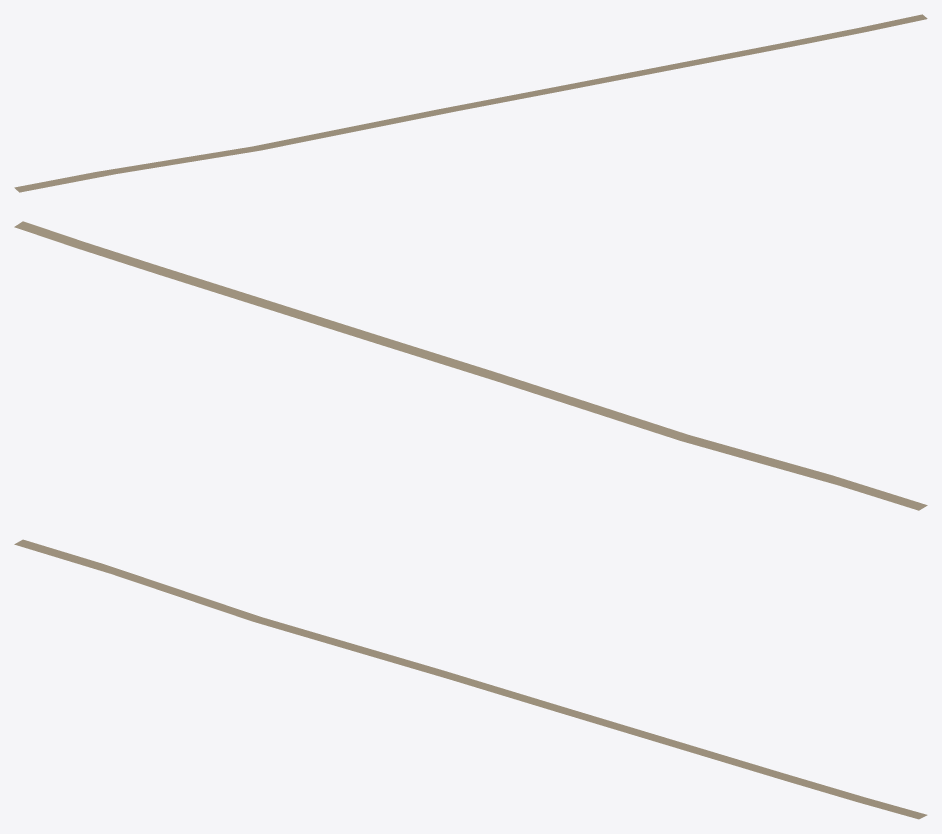
Rendered from farm_9_-2_track.glb.
3 views of the same model, one above another, from view 1: azimuth 30°, elevation 25°; view 2: azimuth 150°, elevation 25°; view 3: azimuth 330°, elevation 25° (orthographic). The views are drawn at different scales.
Visible parts, largest first — view 1: geometry_0; view 2: geometry_0; view 3: geometry_0.
Part boxes in pixels (x1,y1,x2,y2): geometry_0: [14, 14, 927, 192]; geometry_0: [14, 221, 927, 510]; geometry_0: [14, 539, 927, 819].
Size of the model in its own units: 240 by 2.05 by 29.14.
